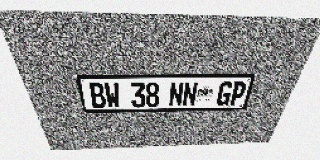3: (130, 82, 145, 107)
8: (145, 82, 160, 107)
B: (88, 83, 107, 108)
G: (215, 82, 234, 106)
N: (182, 82, 198, 106), (169, 82, 184, 107)
P: (228, 81, 248, 106)
W: (103, 82, 121, 108)
